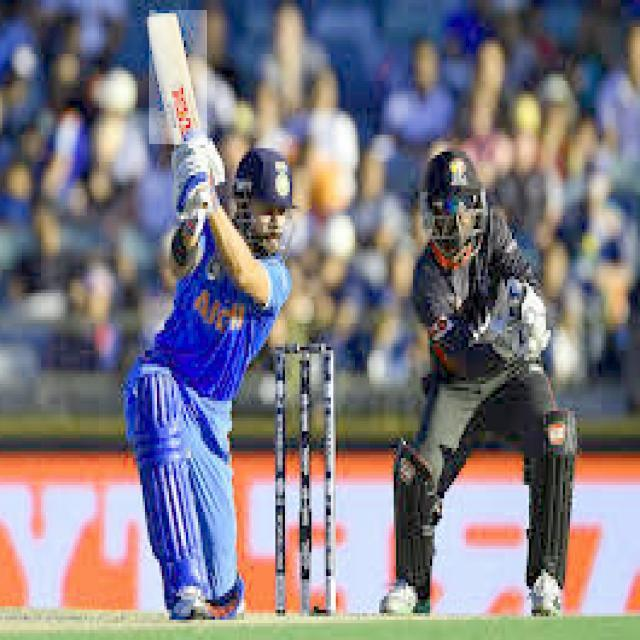bat: (145, 14, 210, 145)
